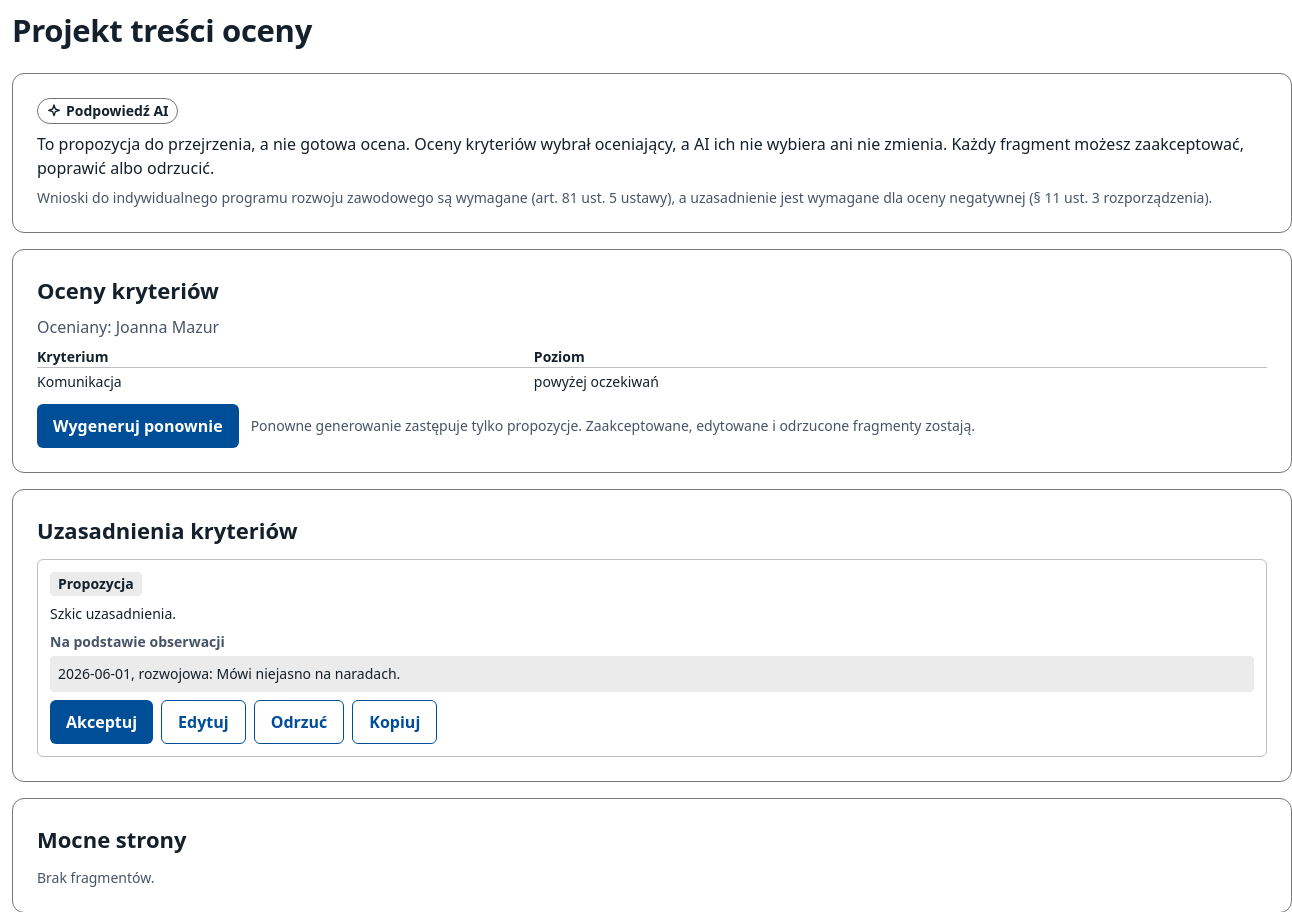
Test: a fragment › edits the text and can cancel
The image size is (1292, 912).
Click the button "Edytuj": (203, 722) [161,700,246,744]
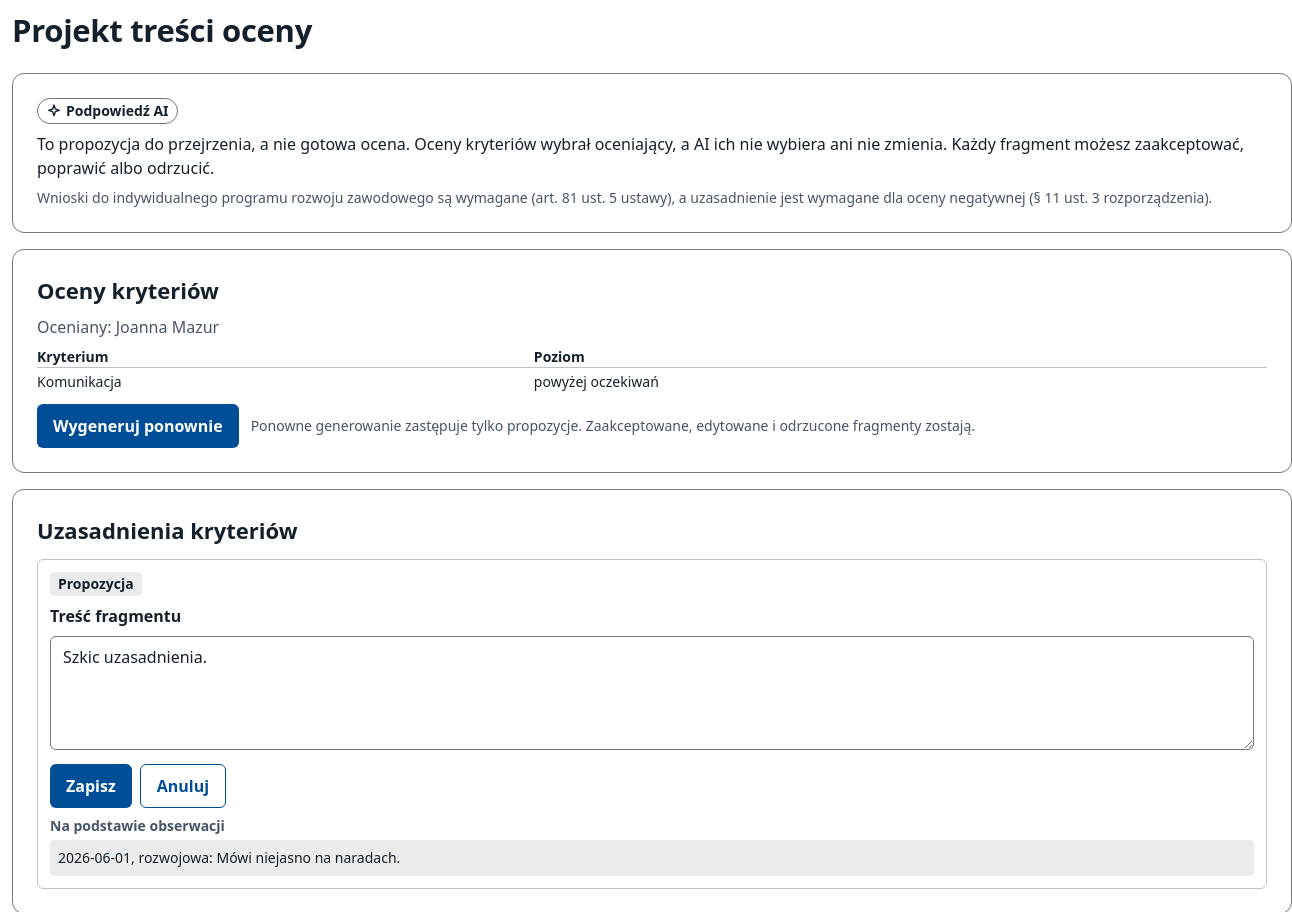
Check: the text box labelled "Treść fragmentu" holds "Szkic uzasadnienia."
Replace the text in the text box labelled "Treść fragmentu" with "Moje uzasadnienie.": (652, 693) [50,636,1254,750]
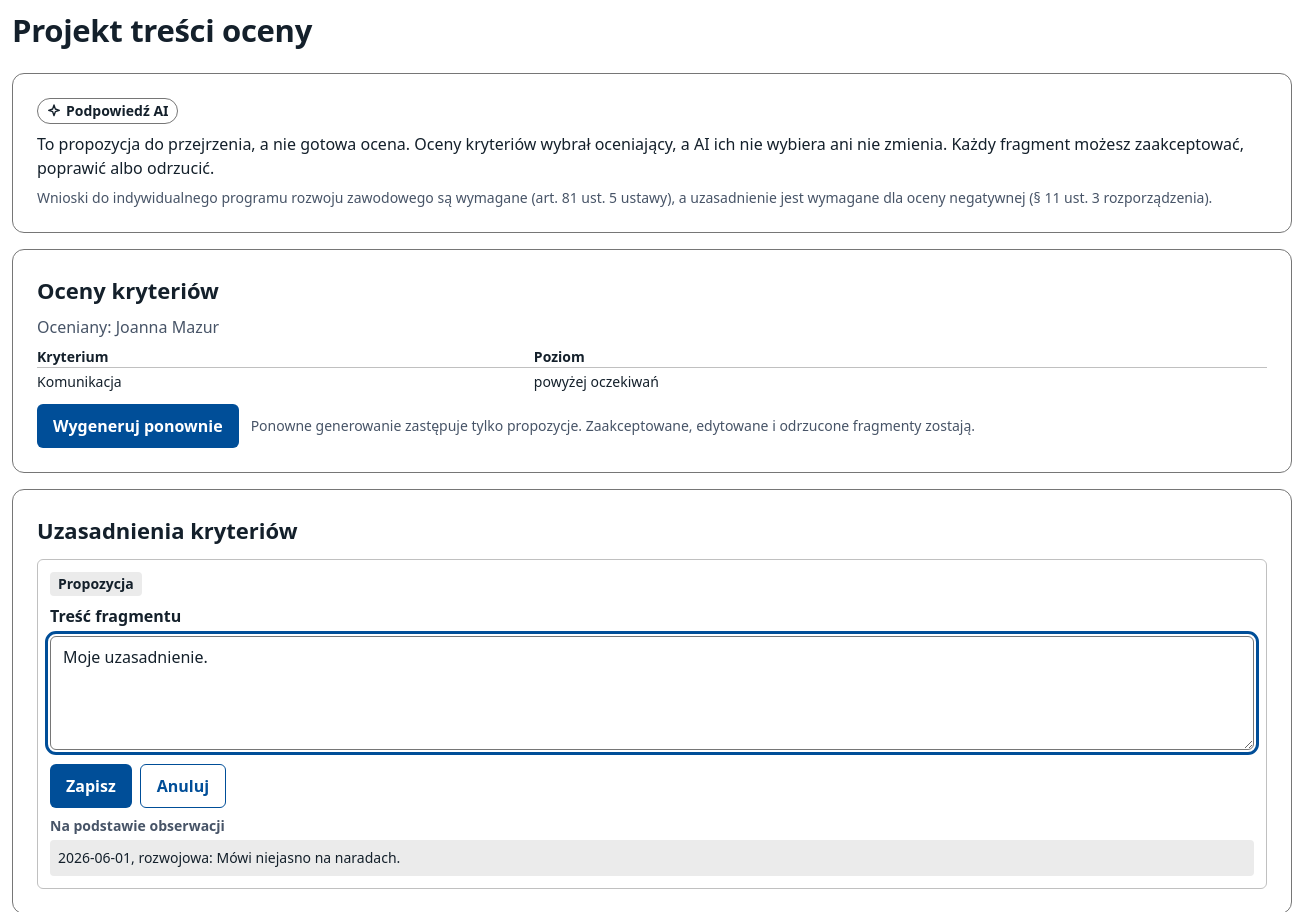
Click the button "Zapisz": (91, 786) [50,764,132,808]
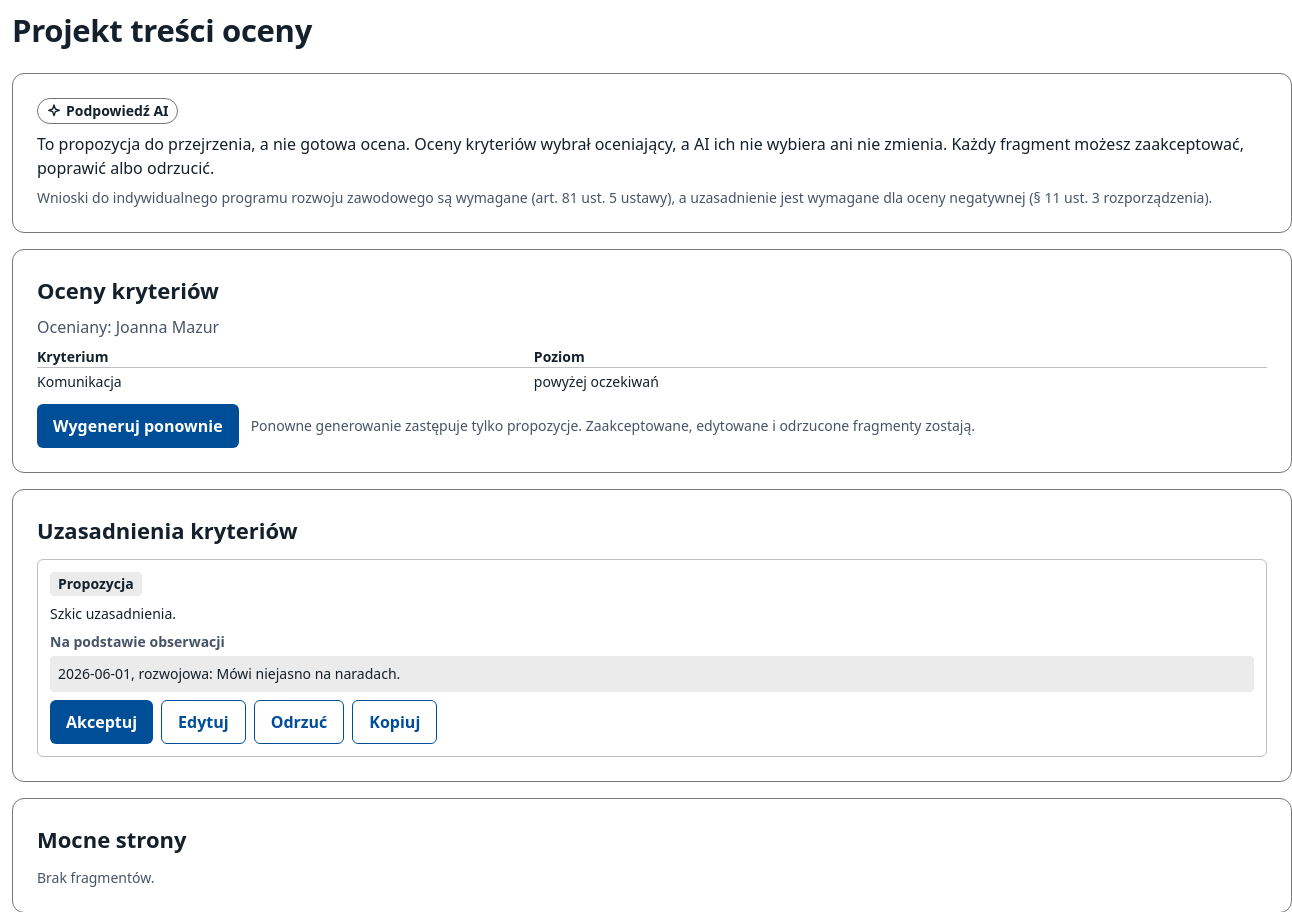
Click the button "Edytuj": (203, 722) [161,700,246,744]
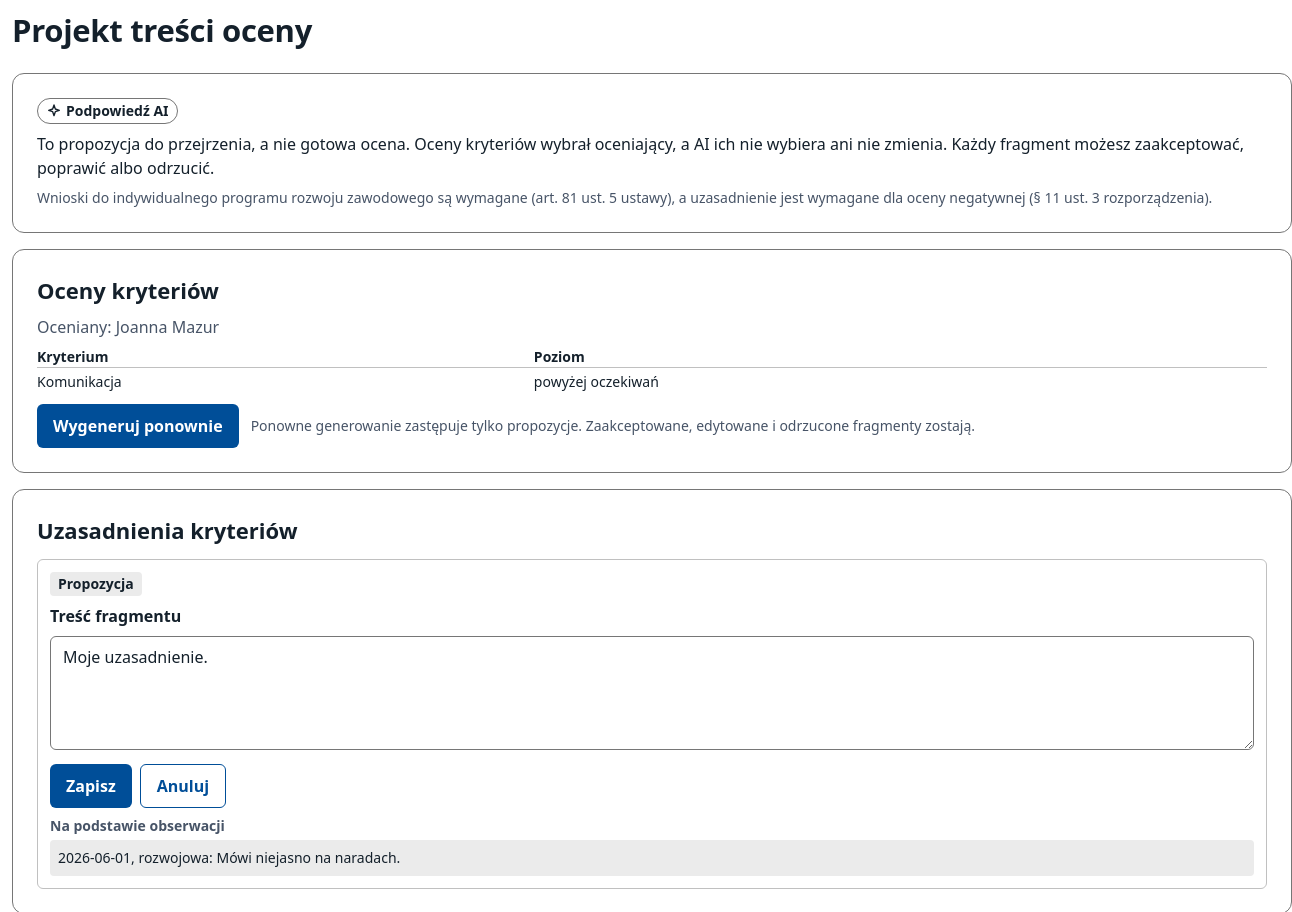
Click the button "Anuluj": (183, 786) [140,764,226,808]
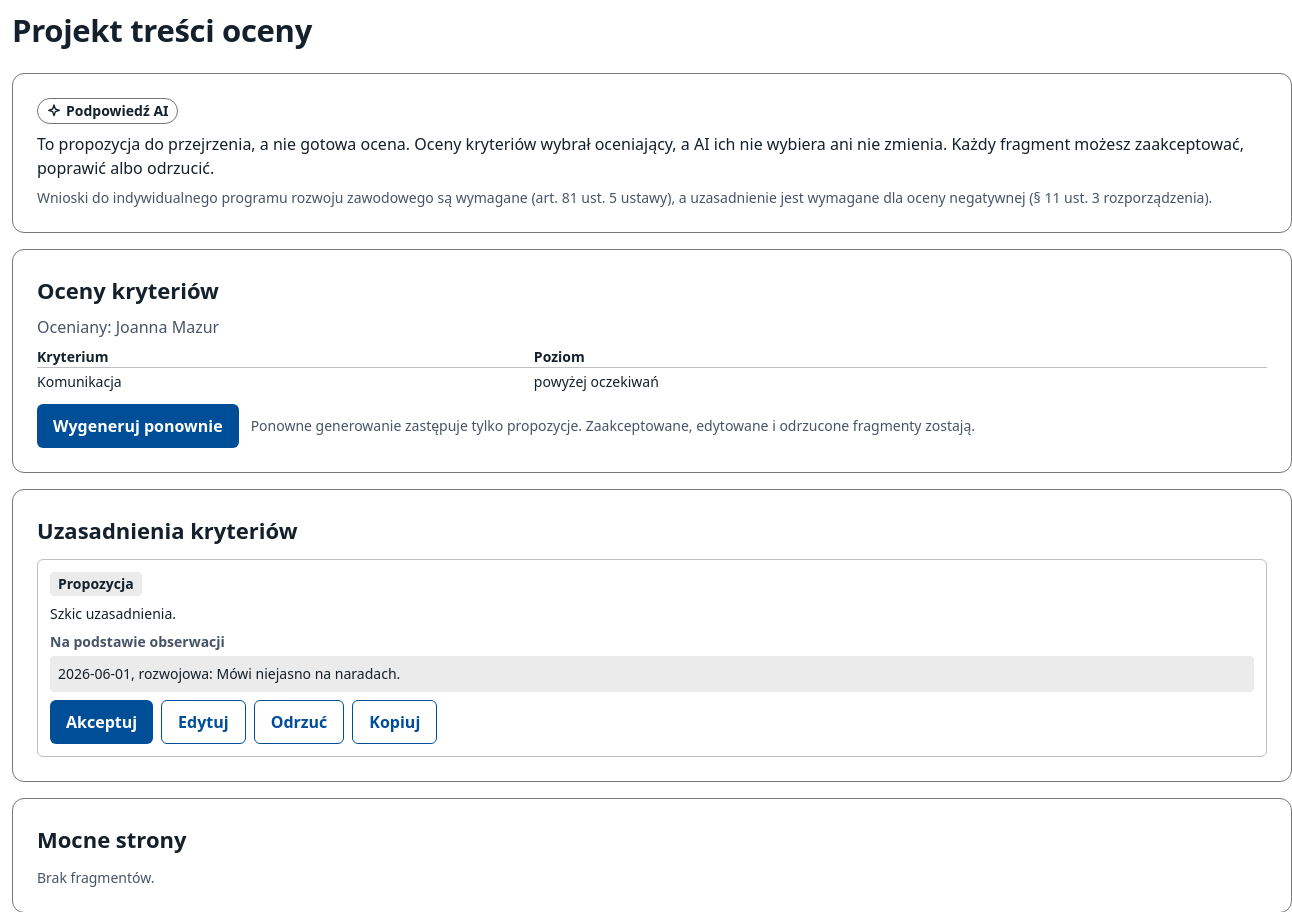
Check: the label labelled "Treść fragmentu" is gone
